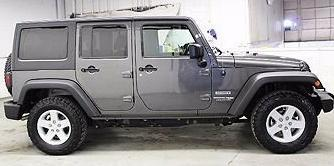SUV: (6, 18, 334, 156)
